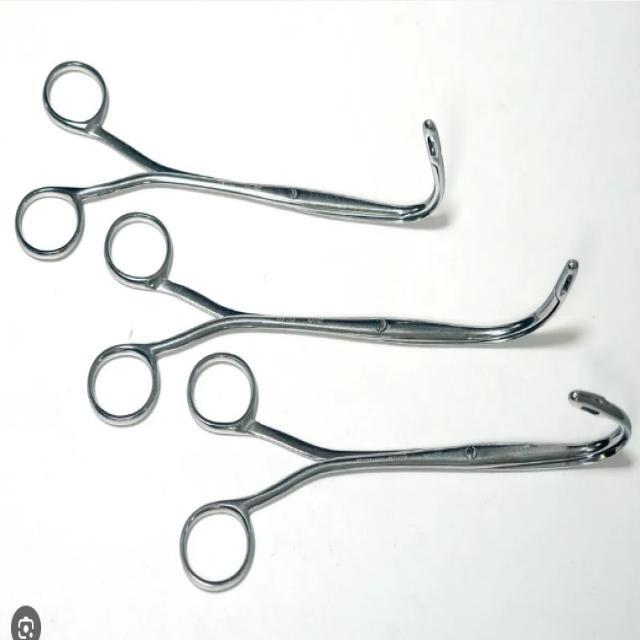Randall: (178, 346, 639, 592), (80, 202, 580, 420)
